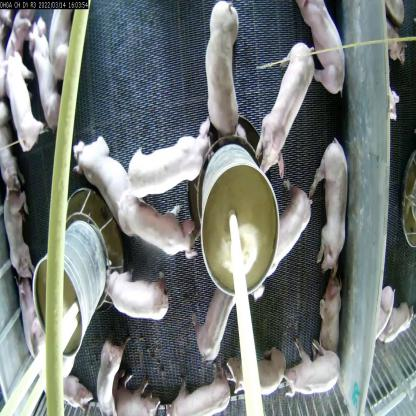Pig: (198, 0, 245, 149), (258, 43, 314, 166), (116, 183, 197, 264), (70, 131, 132, 228), (288, 0, 349, 95), (130, 130, 210, 200), (314, 121, 350, 276), (96, 263, 176, 330), (2, 44, 40, 167), (227, 340, 290, 412), (280, 330, 340, 402), (27, 16, 62, 129), (264, 198, 309, 282), (0, 184, 37, 276), (168, 371, 242, 415), (88, 328, 125, 415), (199, 275, 233, 363), (309, 280, 345, 360), (108, 378, 167, 416)
